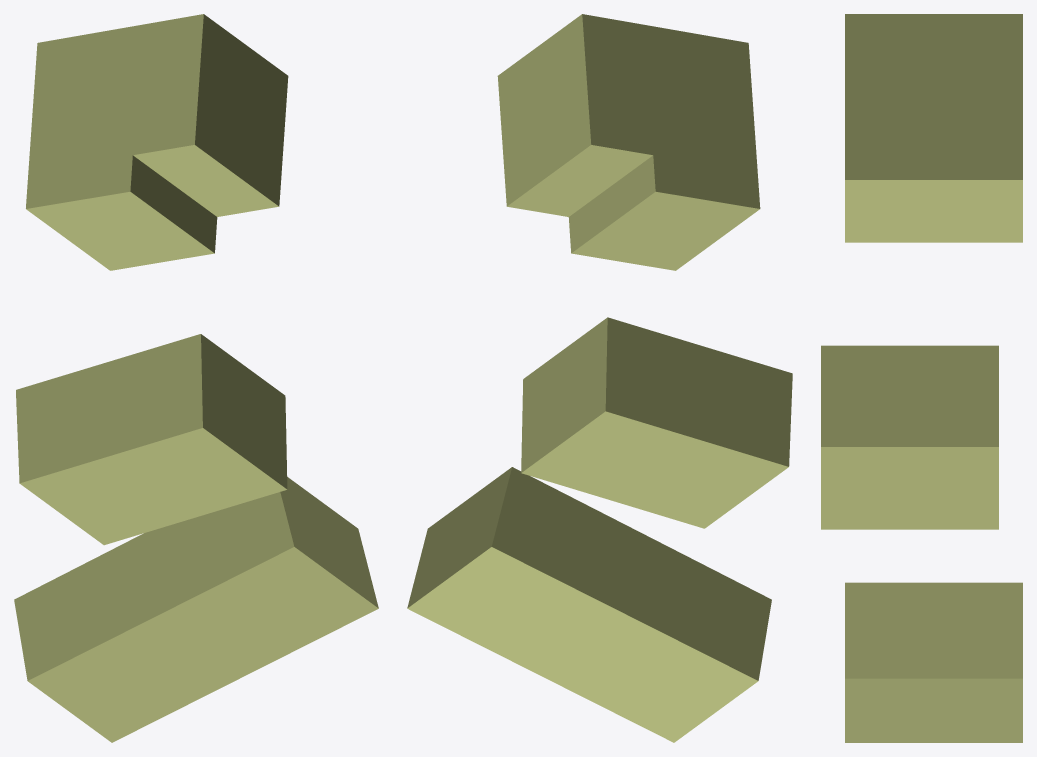
The picture shows the model from 3 angles, left to right: view 1: azimuth 30°, elevation 25°; view 2: azimuth 150°, elevation 25°; view 3: azimuth 270°, elevation 25°; orthographic projection. The views are drawn at different scales.
Visible parts, largest first — view 1: 0_1_0_0_0_1_2_1_1_3; view 2: 0_1_0_0_0_1_2_1_1_3; view 3: 0_1_0_0_0_1_2_1_1_3.
Part boxes in pixels (x1,y1,x2,y2): 0_1_0_0_0_1_2_1_1_3: (14, 14, 378, 742); 0_1_0_0_0_1_2_1_1_3: (407, 14, 792, 742); 0_1_0_0_0_1_2_1_1_3: (821, 14, 1022, 742).
Size of the model in its own units: 11.88 by 24.91 by 6.8.
